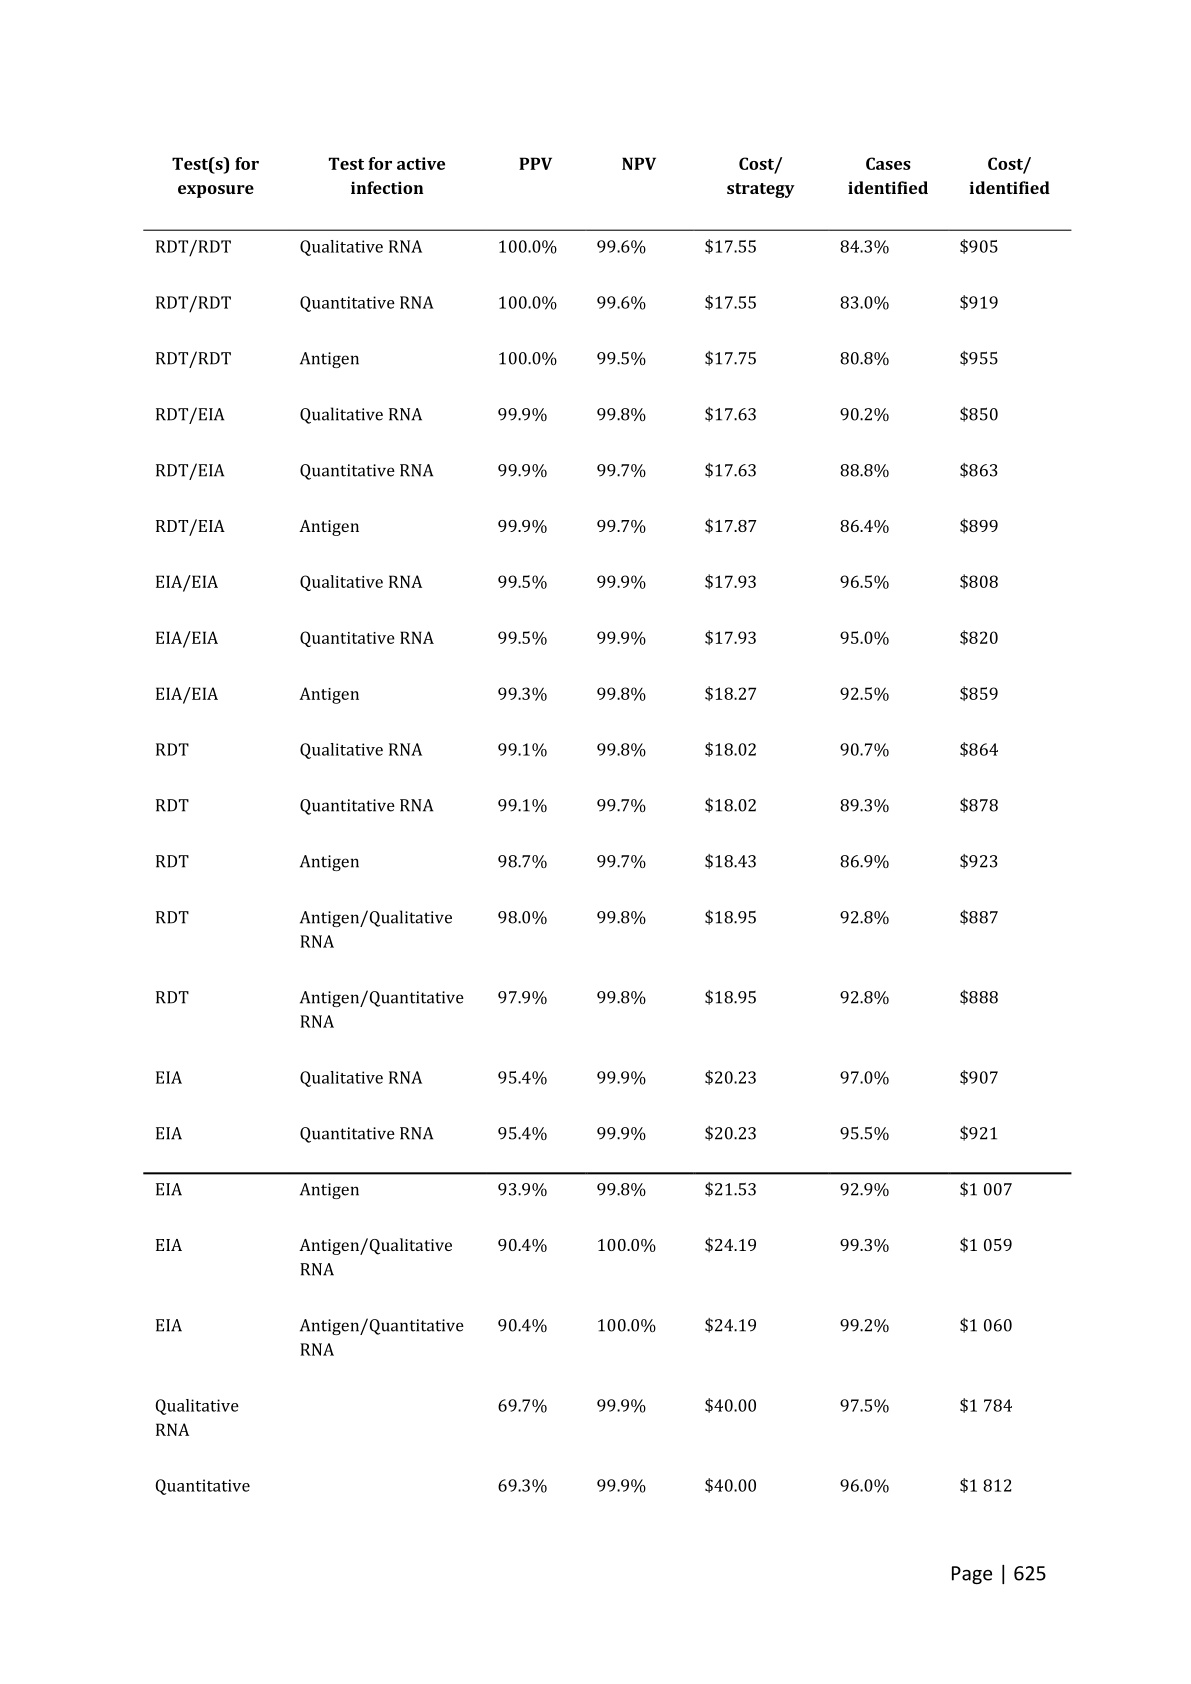partial_lined: (143, 152, 1072, 1500)
